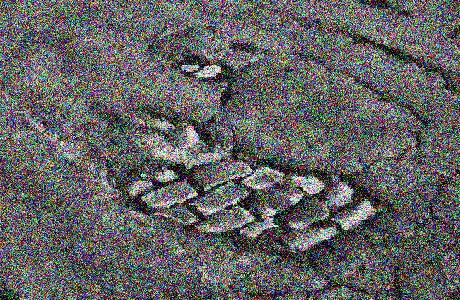pothole: (116, 154, 390, 259), (123, 106, 218, 162), (178, 54, 227, 80)
